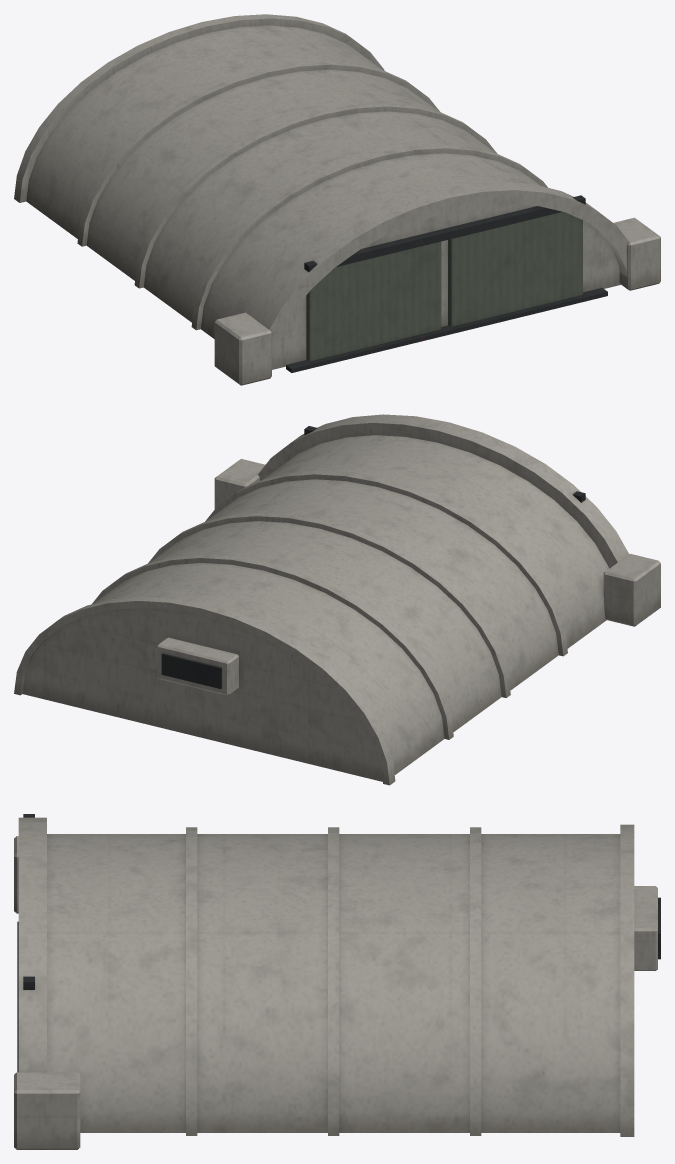
File: hangar.fbx
The picture shows the model from 3 angles, top to bottom: view 1: azimuth 30°, elevation 25°; view 2: azimuth 150°, elevation 25°; view 3: azimuth 270°, elevation 25°; orthographic projection. The views are drawn at different scales.
Visible parts, largest first — view 1: hangar; view 2: hangar; view 3: hangar.
Boxes of the visible parts, x1,y1,x2,y2 form: hangar: (14,14,660,385); hangar: (14,414,660,785); hangar: (14,814,660,1149).
Size of the model in its own units: 3584 by 1106 by 3825.
1 material, 1 textured.
